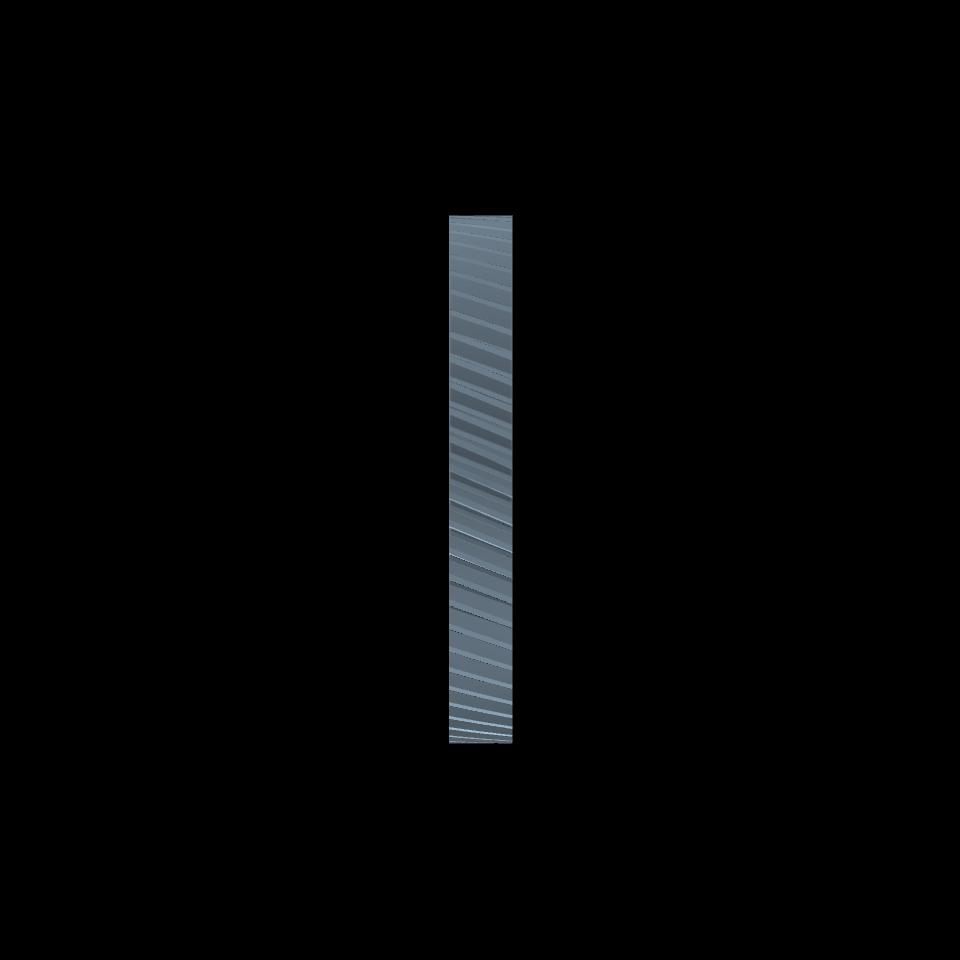Helical: (450, 215, 512, 744)
